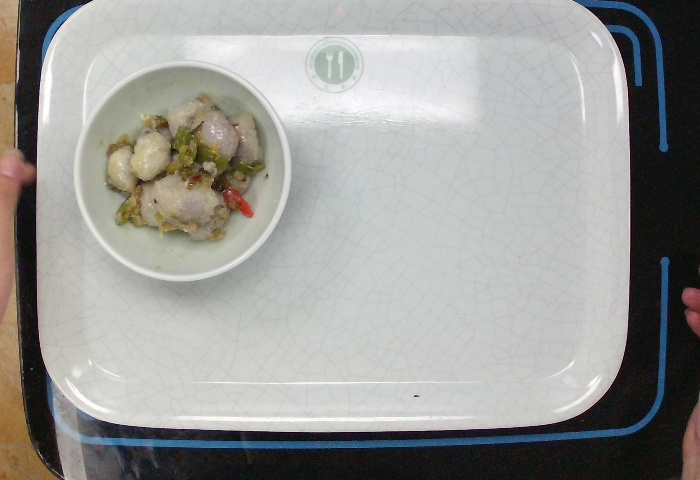JYsf-Fan_Wan: (72, 57, 297, 284)
